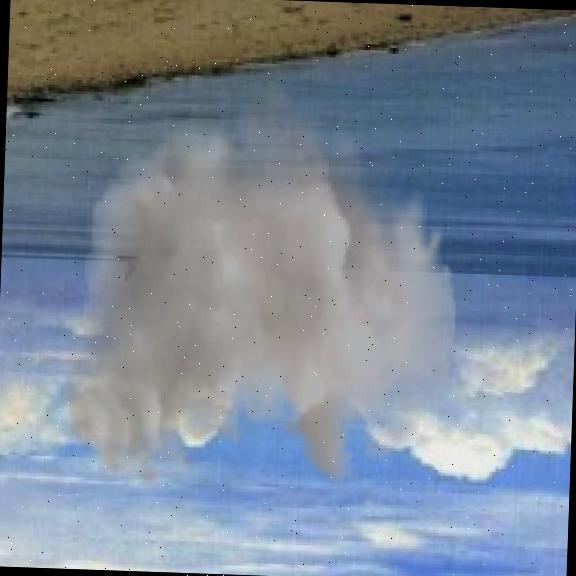smoke: (60, 64, 465, 501)
